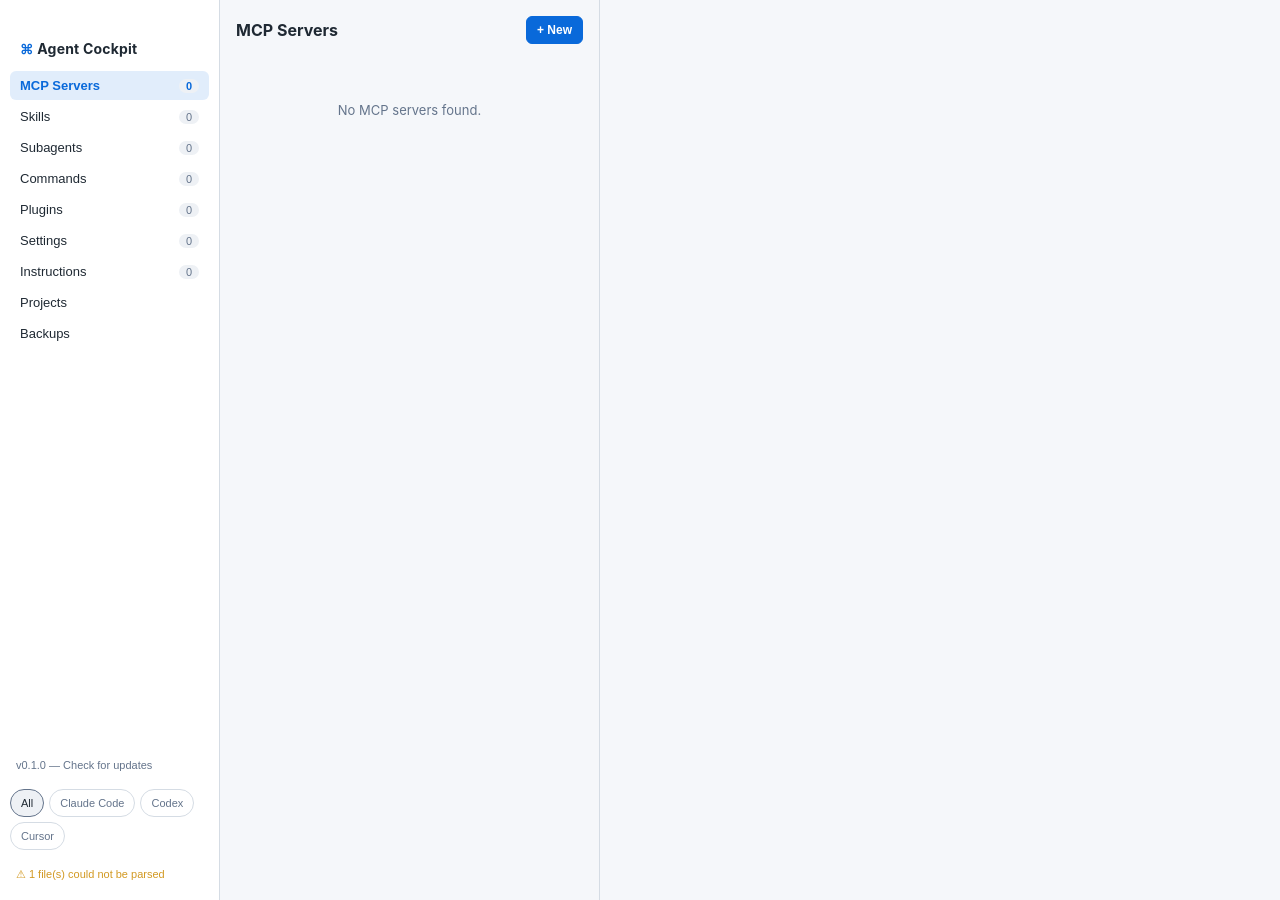
Test: App › lists parse errors in the sidebar and opens the errors modal
Step 1. Click the button "⚠ 1 file(s) could not be parsed" → point(110, 874), box [10, 860, 209, 888]
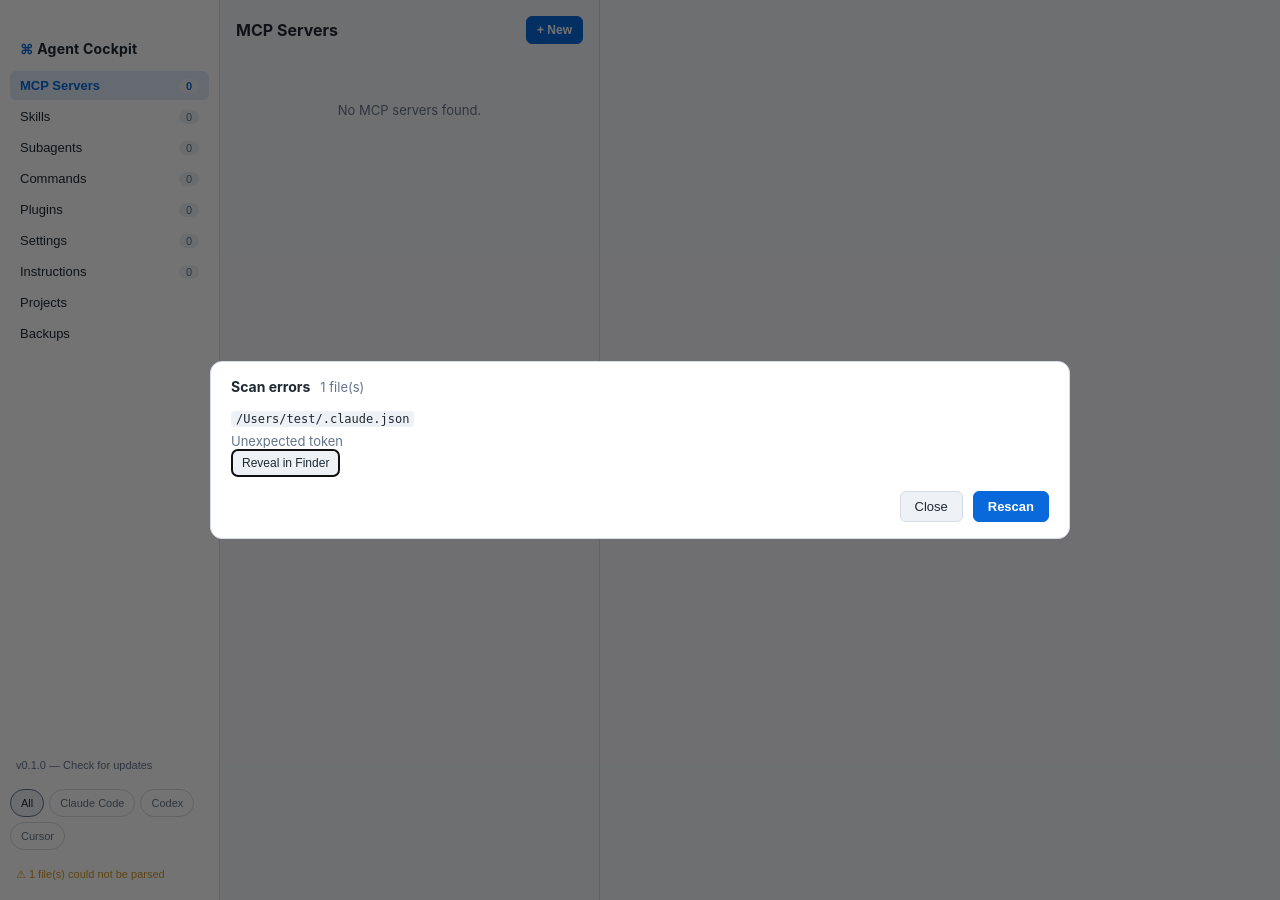
Expected: the dialog "Scan errors" is shown, [210, 361, 1070, 539]
Expected: the text "Unexpected token" is shown, [231, 433, 343, 449]
